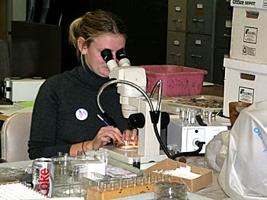person: (28, 11, 141, 161)
